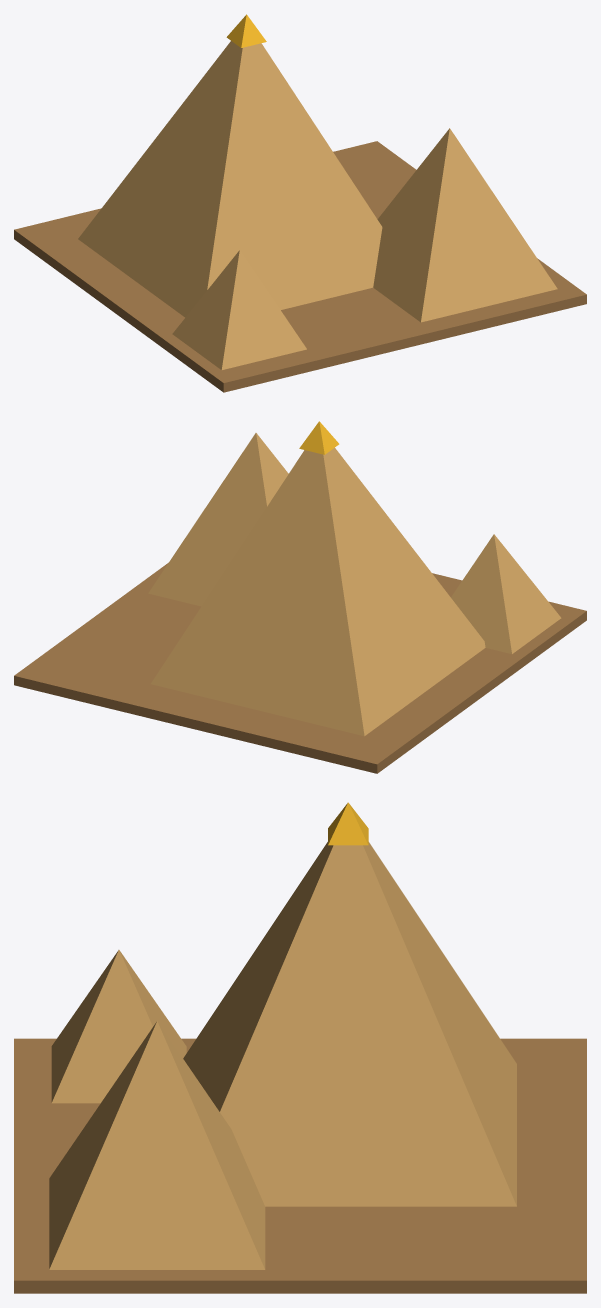
The model's file is giza.glb.
3 renders of one model, top to bottom at view 1: azimuth 30°, elevation 25°; view 2: azimuth 150°, elevation 25°; view 3: azimuth 270°, elevation 25°, orthographic. The views are drawn at different scales.
Visible parts, largest first — view 1: giza; view 2: giza; view 3: giza.
Part boxes in pixels (box(x1,y1,x2,y2)): giza: box(14, 14, 586, 392); giza: box(14, 421, 586, 773); giza: box(14, 802, 586, 1293).
Size of the model in its own units: 1.2 by 0.8 by 1.2.
